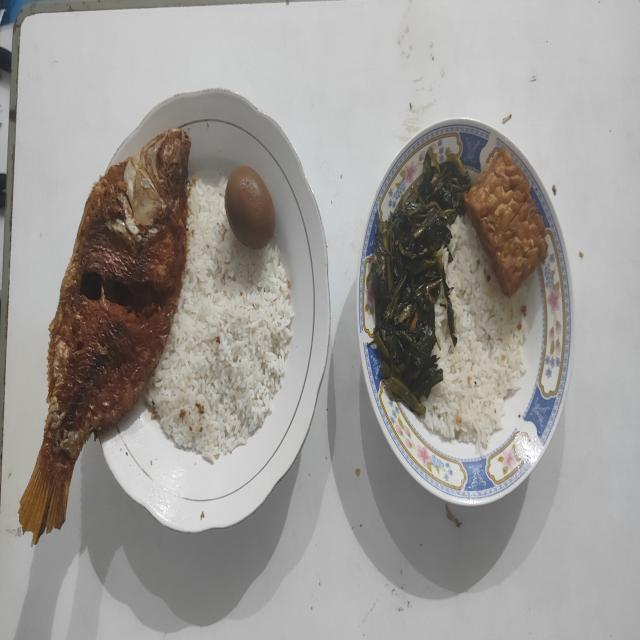ikan_mujair: (19, 128, 191, 544)
nasi_putih: (144, 176, 294, 461), (422, 218, 530, 450)
tempe_goreng: (464, 150, 547, 296)
tumis_kangkung: (368, 148, 471, 415)
